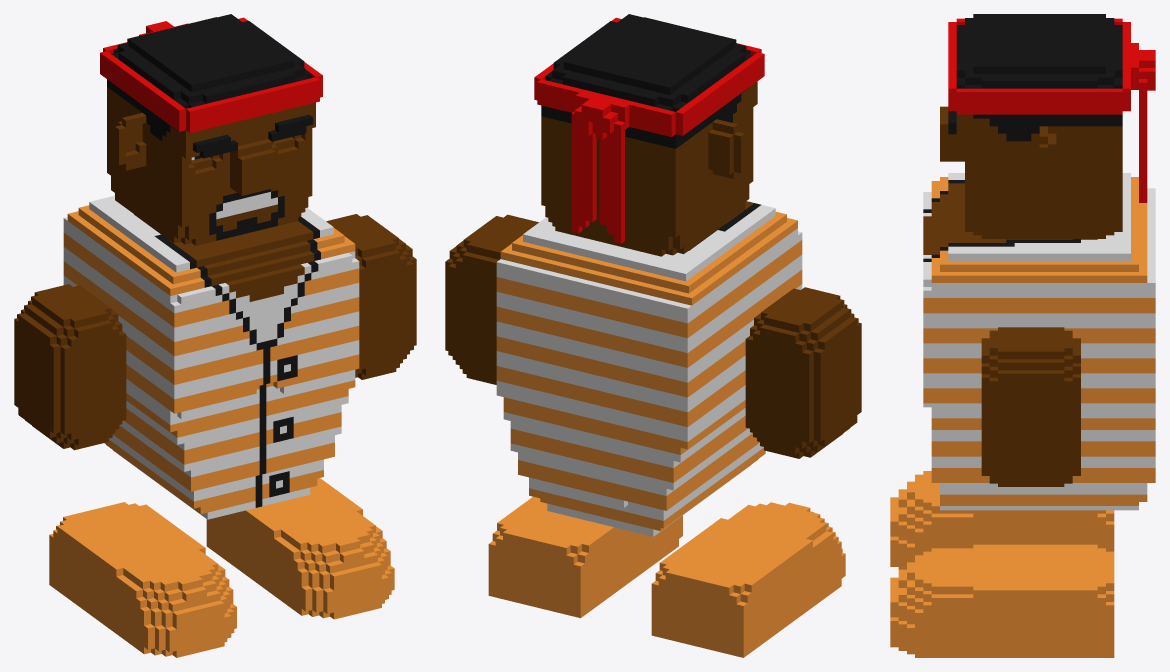
Rendered from Prisoner_Sniper_1.obj.
3 views of the same model, side by side, from view 1: azimuth 30°, elevation 25°; view 2: azimuth 150°, elevation 25°; view 3: azimuth 270°, elevation 25° (orthographic). The views are drawn at different scales.
Bounding box in the file's own units: 53 × 74 × 32.
1 material, 1 textured.
